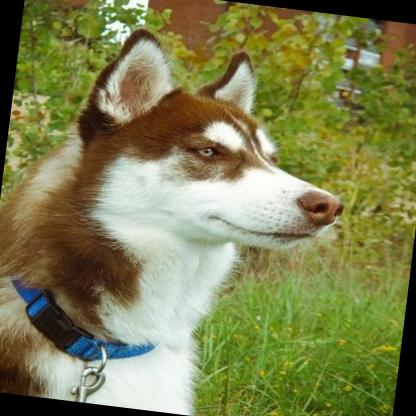Siberian_husky: (0, 10, 364, 416)
